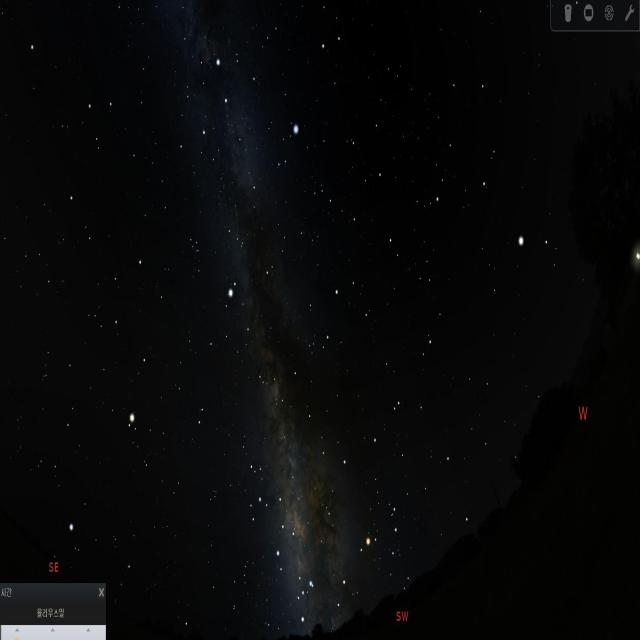aquila: (203, 249, 285, 406)
bootes: (428, 64, 536, 266)
cygnus: (194, 46, 261, 233)
lyra: (267, 126, 303, 182)
sagittarius: (231, 470, 291, 568)
scorpius: (294, 476, 410, 612)
